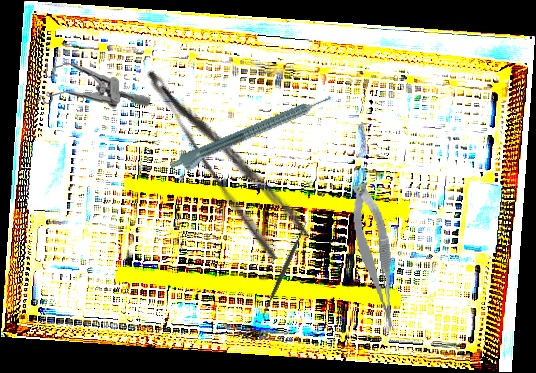Dressing Forceps: (141, 47, 312, 264)
Handpiece: (168, 91, 336, 179)
Micro Scissor: (347, 180, 402, 335)
Spatula Surgical: (255, 217, 314, 323)
Speculum: (33, 57, 152, 113)
